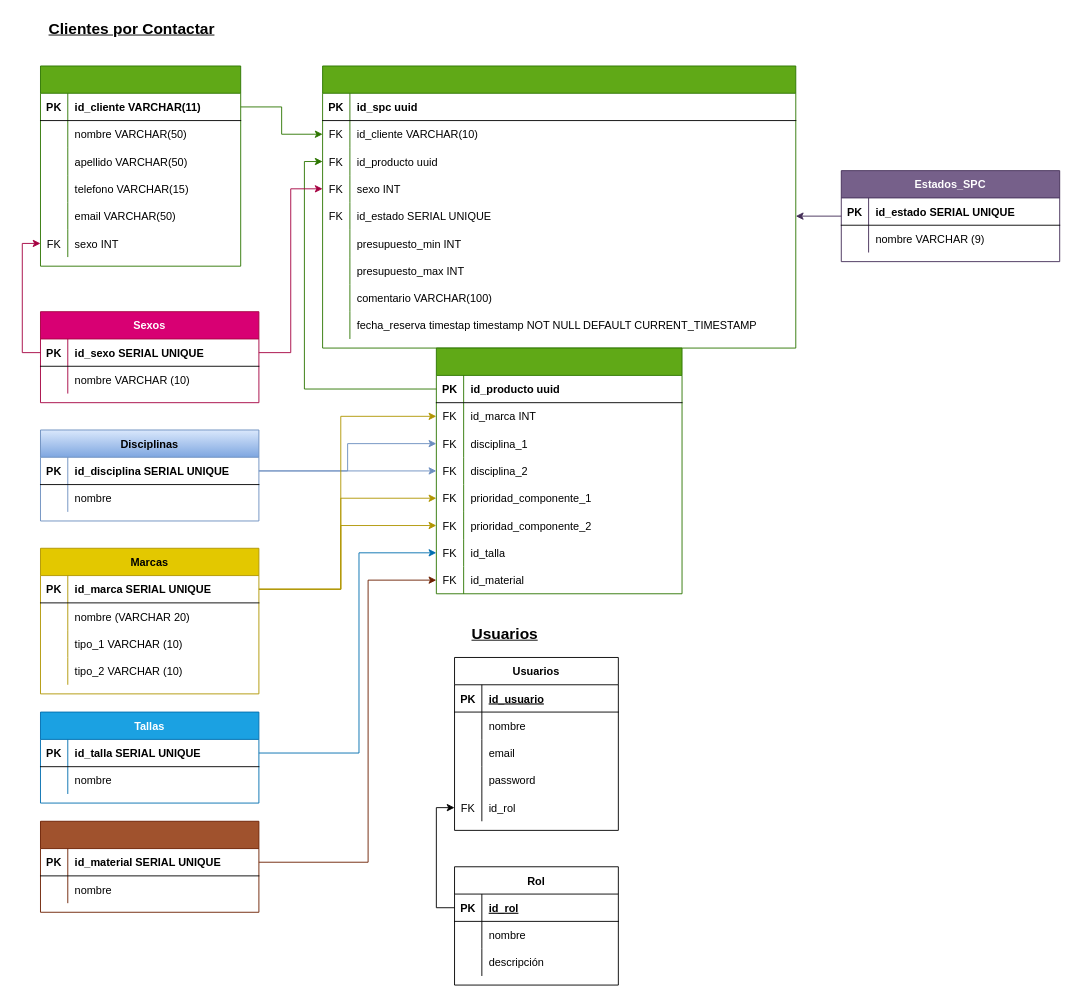
This 1076x1001 diagram has some shape labels left out. The shapes that lost their labels are listed below. From the top down, each one's box as (x1, y1, x2, y2) in pixels, then its label:
(40, 65, 241, 266): Clientes
(322, 65, 796, 348): solicitud_pedido_cliente
(435, 347, 682, 594): Productos
(40, 820, 259, 912): Materiales
